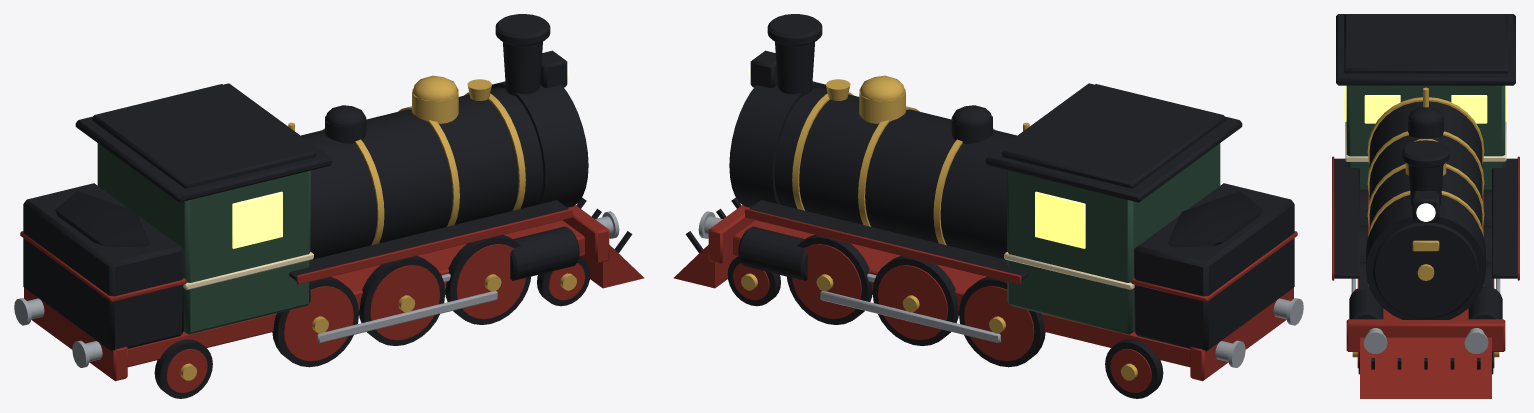
Rendered from locomotora.glb.
3 renders of one model, left to right at view 1: azimuth 30°, elevation 25°; view 2: azimuth 150°, elevation 25°; view 3: azimuth 270°, elevation 25°, orthographic. The views are drawn at different scales.
Visible parts, largest first — view 1: locomotora; view 2: locomotora; view 3: locomotora.
Boxes of the visible parts, bbox=[...] form: locomotora: bbox=[14, 14, 644, 398]; locomotora: bbox=[673, 14, 1303, 398]; locomotora: bbox=[1332, 14, 1519, 398].
Bounding box in the file's own units: 4.65 × 2.03 × 1.56.
